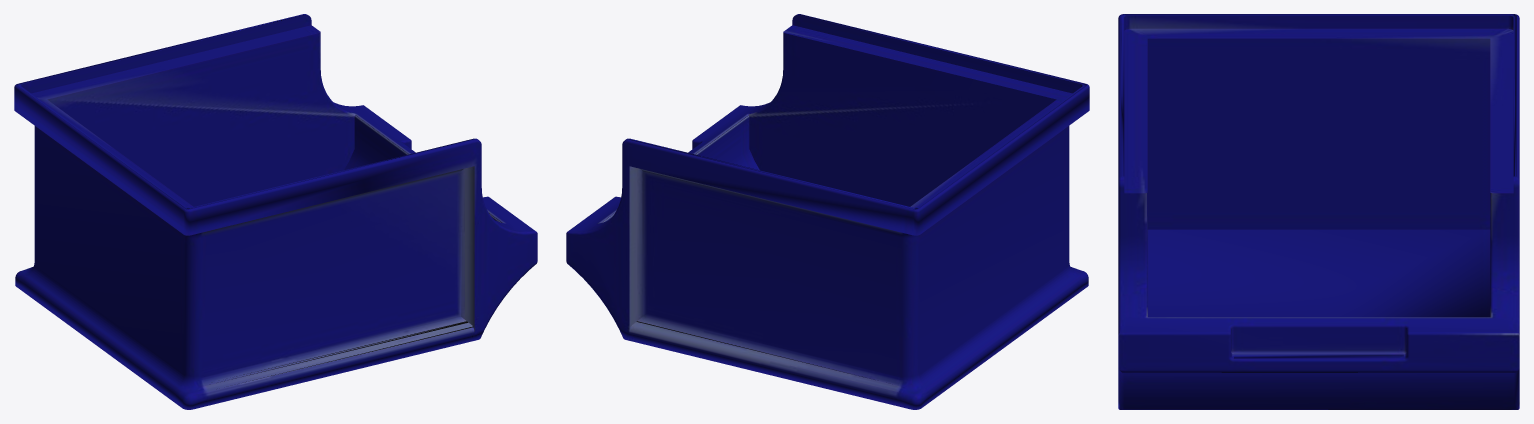
File: Container_box_blue.fbx
The picture shows the model from 3 angles, left to right: view 1: azimuth 30°, elevation 25°; view 2: azimuth 150°, elevation 25°; view 3: azimuth 270°, elevation 25°; orthographic projection. The views are drawn at different scales.
Visible parts, largest first — view 1: Container_box_blue; view 2: Container_box_blue; view 3: Container_box_blue.
Part boxes in pixels (left/top/right/bottom): Container_box_blue: left=14, top=14, right=537, bottom=409; Container_box_blue: left=566, top=14, right=1089, bottom=409; Container_box_blue: left=1118, top=14, right=1519, bottom=409.
Size of the model in its own units: 160 by 87 by 137.
1 material, 1 textured.
